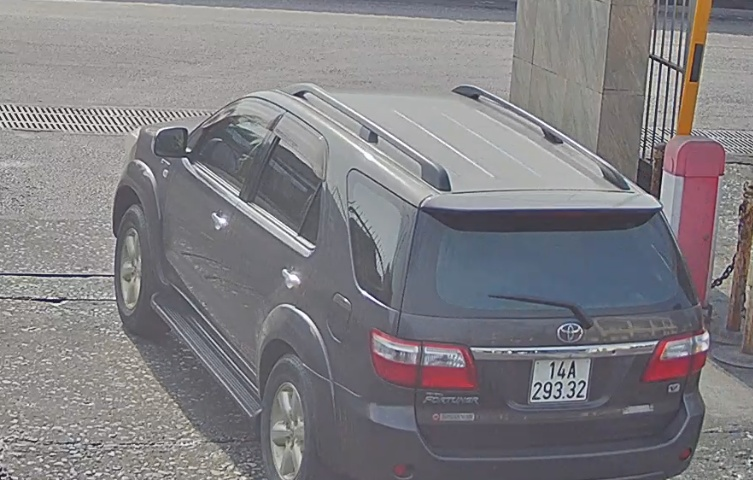vehicle plate: (529, 349, 593, 404)
